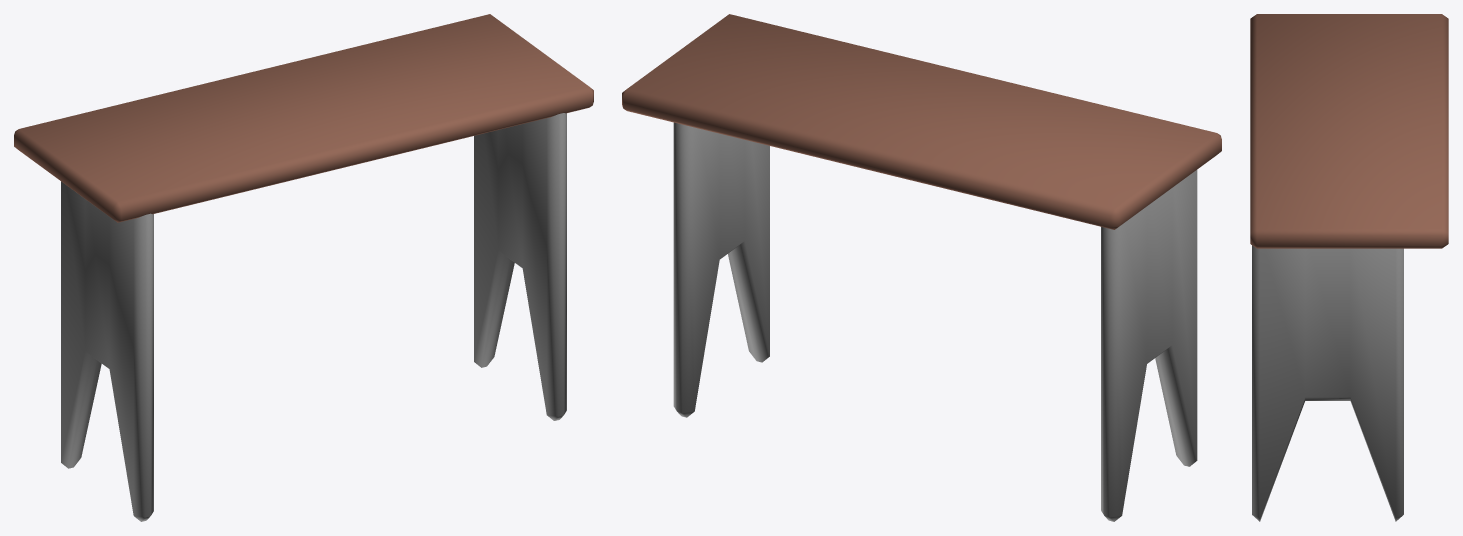
The model's file is props_table_de_garage.fbx.
3 views of the same model, side by side, from view 1: azimuth 30°, elevation 25°; view 2: azimuth 150°, elevation 25°; view 3: azimuth 270°, elevation 25° (orthographic). The views are drawn at different scales.
Parts seen in each view (by area): view 1: Cube.020; view 2: Cube.020; view 3: Cube.020.
Boxes of the visible parts, left/top/right/bottom form: Cube.020: left=14, top=14, right=593, bottom=521; Cube.020: left=622, top=14, right=1221, bottom=521; Cube.020: left=1250, top=14, right=1448, bottom=521.
Size of the model in its own units: 2.97 by 1.13 by 1.93.
